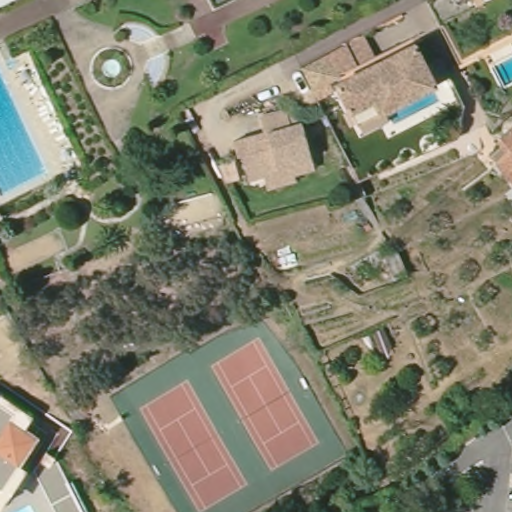pool: (1, 65, 49, 204), (383, 87, 441, 127), (490, 55, 512, 87)
